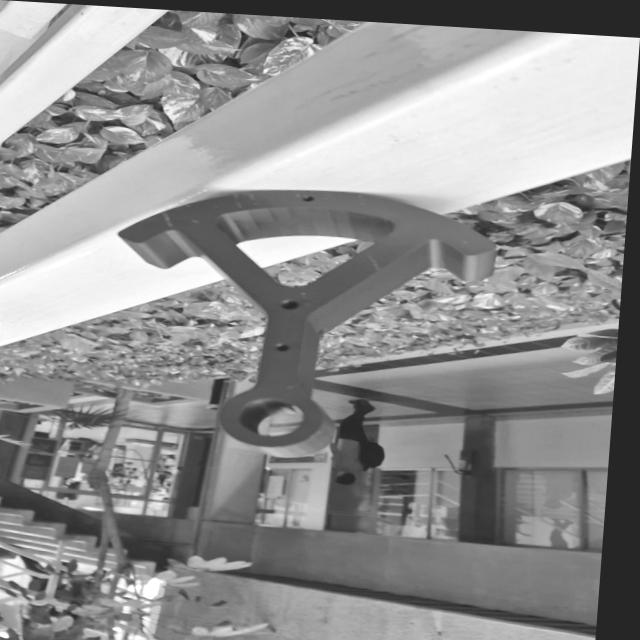haptic: (98, 176, 504, 472)
